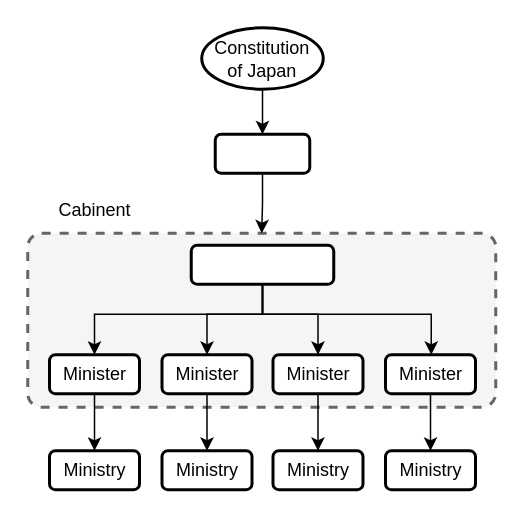
Some shapes in this 522 by 516 pixel diagram are drawn without their labels. The shapes that lost their labels are listed below. From the top down, each one's centre as x and y in pixels, then its label:
At [261,153]: "The Diet".
At [261,264]: "Prime Minister".
